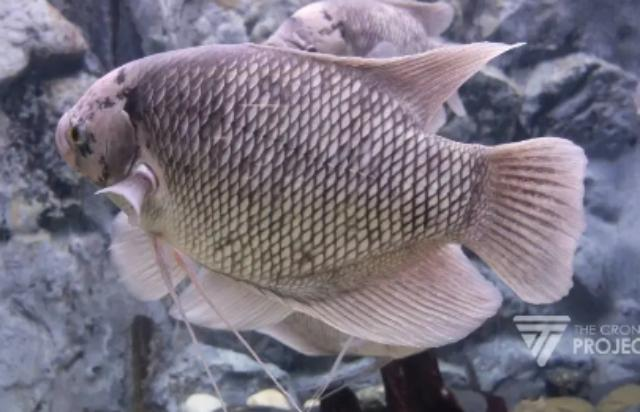Sirip Anal: (215, 241, 505, 348)
Sirip Dada: (81, 151, 171, 245)
Sirip Ekor: (462, 138, 589, 304)
Sirip Punggung: (242, 41, 530, 126)
